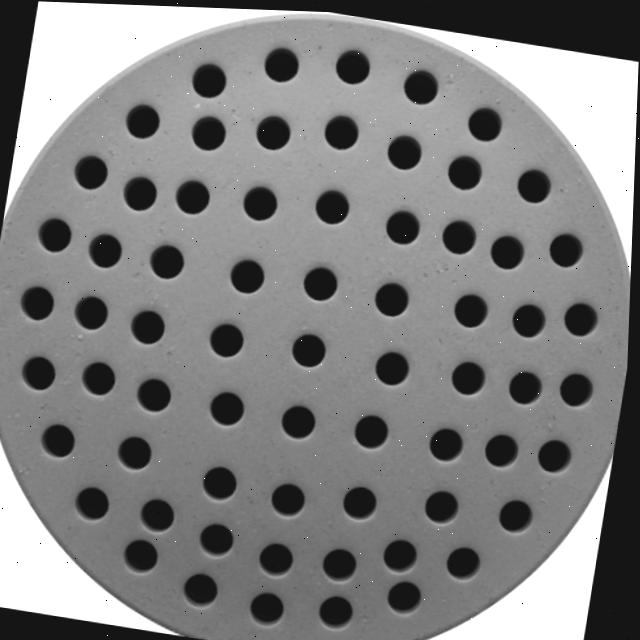Hole: (377, 528, 431, 613), (204, 312, 252, 361), (276, 394, 325, 440), (320, 539, 362, 591), (84, 225, 129, 273), (187, 53, 233, 99), (381, 198, 426, 245), (329, 38, 374, 85), (32, 210, 77, 257), (126, 301, 170, 349), (249, 105, 295, 150), (371, 340, 415, 387), (145, 235, 189, 282), (372, 269, 416, 316), (299, 257, 343, 304), (120, 93, 164, 140), (136, 492, 180, 539), (535, 428, 580, 473), (381, 125, 426, 170), (351, 405, 396, 450), (207, 383, 252, 428), (225, 248, 269, 294), (447, 350, 491, 396), (238, 177, 284, 221), (72, 479, 118, 523), (181, 564, 228, 607), (186, 107, 230, 152), (511, 157, 555, 202), (171, 172, 216, 216), (544, 220, 589, 264), (460, 95, 504, 139), (18, 347, 61, 392), (72, 288, 114, 334), (69, 146, 110, 193), (449, 283, 492, 327), (309, 180, 353, 223), (397, 60, 441, 103), (341, 476, 384, 520), (201, 458, 245, 501), (320, 104, 363, 148), (124, 531, 168, 574), (17, 278, 59, 323), (134, 369, 176, 414), (444, 146, 487, 189), (79, 353, 122, 396), (423, 480, 466, 523), (269, 474, 312, 517), (259, 39, 302, 82), (288, 324, 331, 367), (438, 208, 479, 253), (426, 416, 467, 461), (446, 537, 489, 579), (255, 535, 299, 576), (248, 584, 291, 625), (489, 224, 529, 268), (482, 422, 522, 466), (115, 429, 159, 469), (119, 168, 159, 211), (198, 515, 241, 555), (558, 361, 598, 404), (39, 418, 82, 458), (507, 359, 547, 401), (511, 293, 550, 336), (318, 587, 358, 627), (562, 292, 601, 333), (498, 490, 538, 529)
